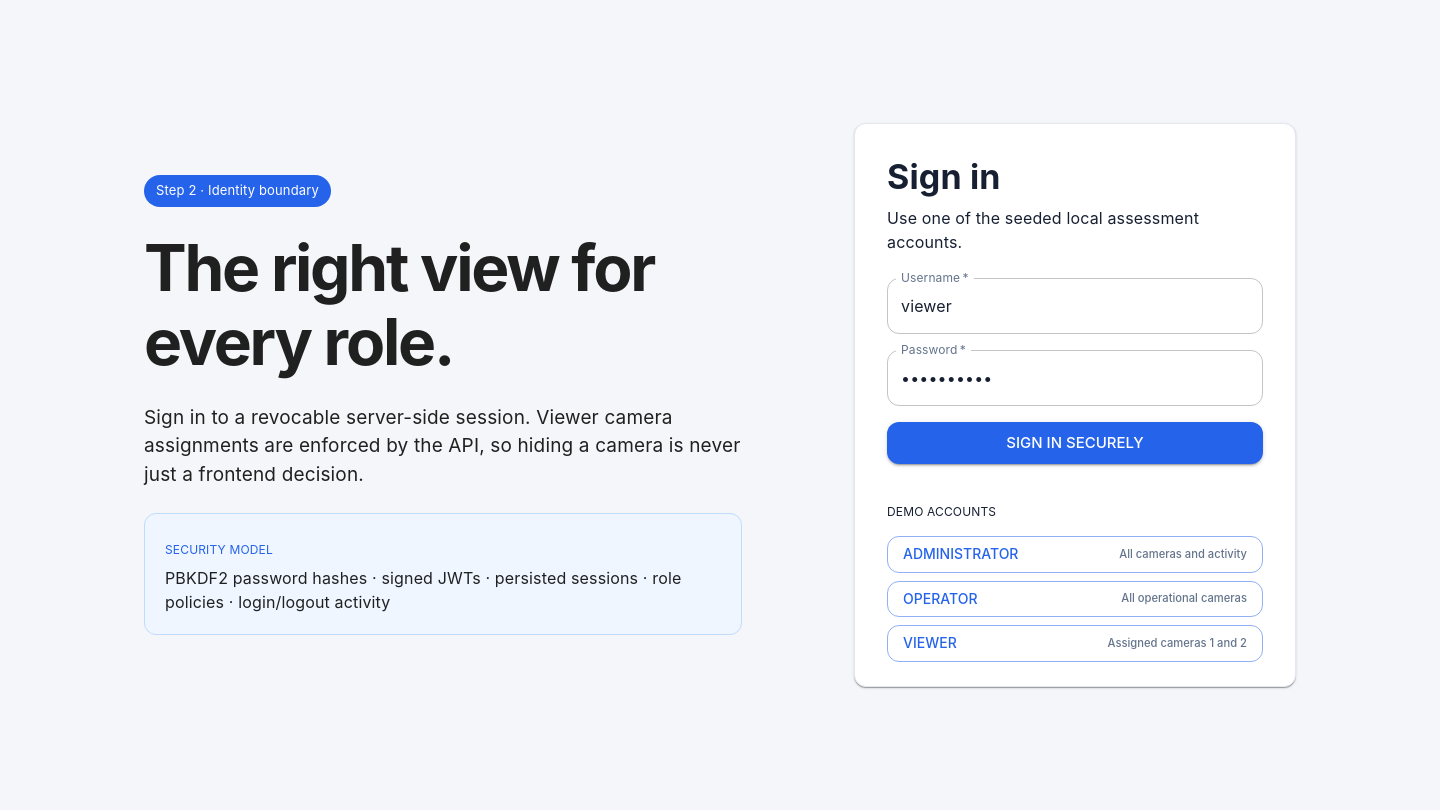
Test: authentication and authorization UI › signs in a Viewer and renders only cameras returned by the API
Click the button "Sign in securely" at (1075, 443), box x1=887 y1=422 x2=1263 y2=464
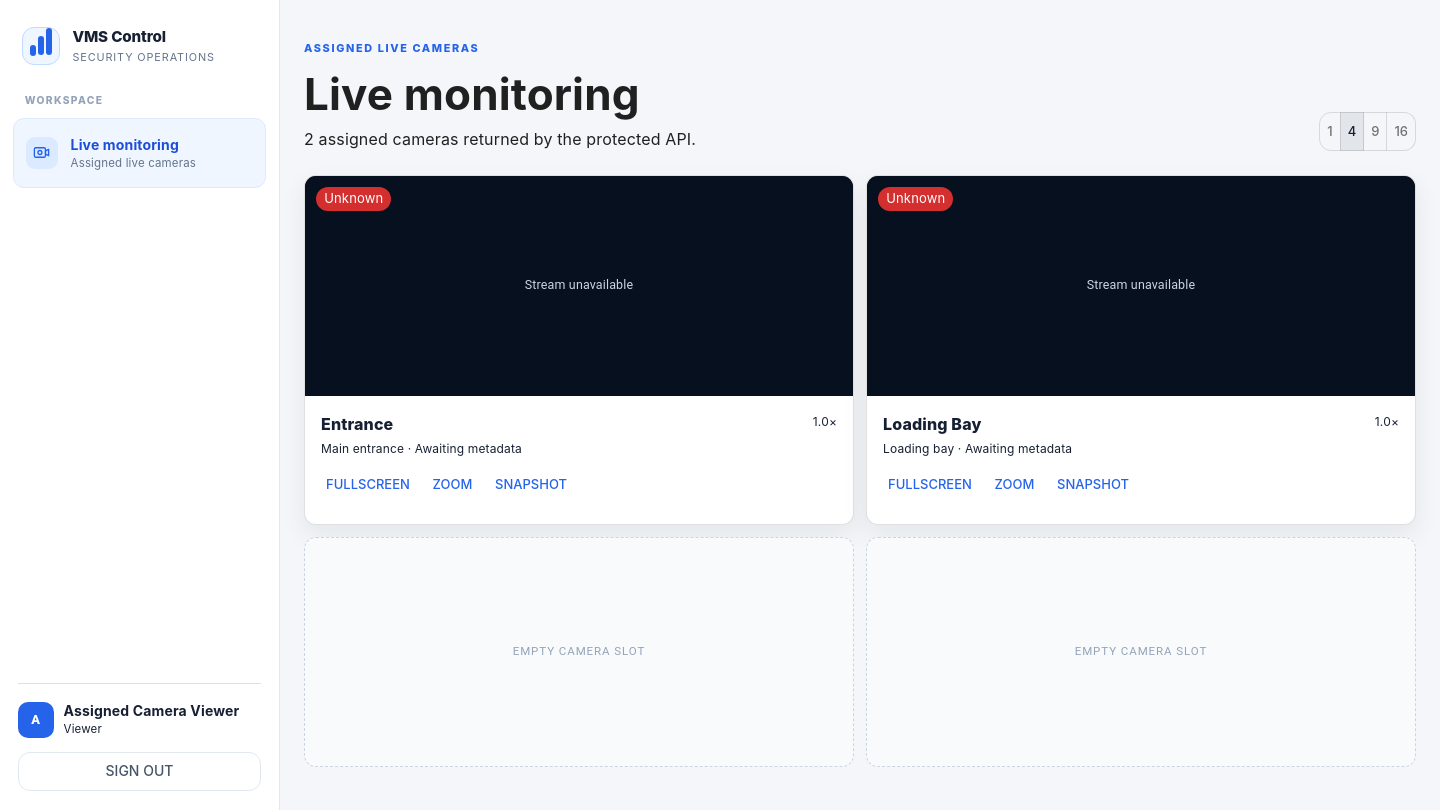
expect the heading "Live monitoring" is shown: met, box x1=304 y1=68 x2=696 y2=120
expect the text "Entrance" is shown: met, box x1=321 y1=414 x2=393 y2=434
expect the text "Loading Bay" is shown: met, box x1=883 y1=414 x2=982 y2=434
